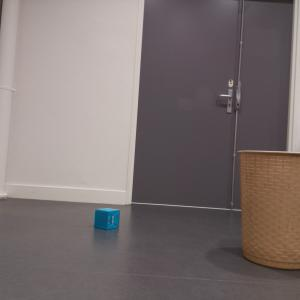medium: (236, 149, 300, 271)
small: (94, 207, 120, 231)
